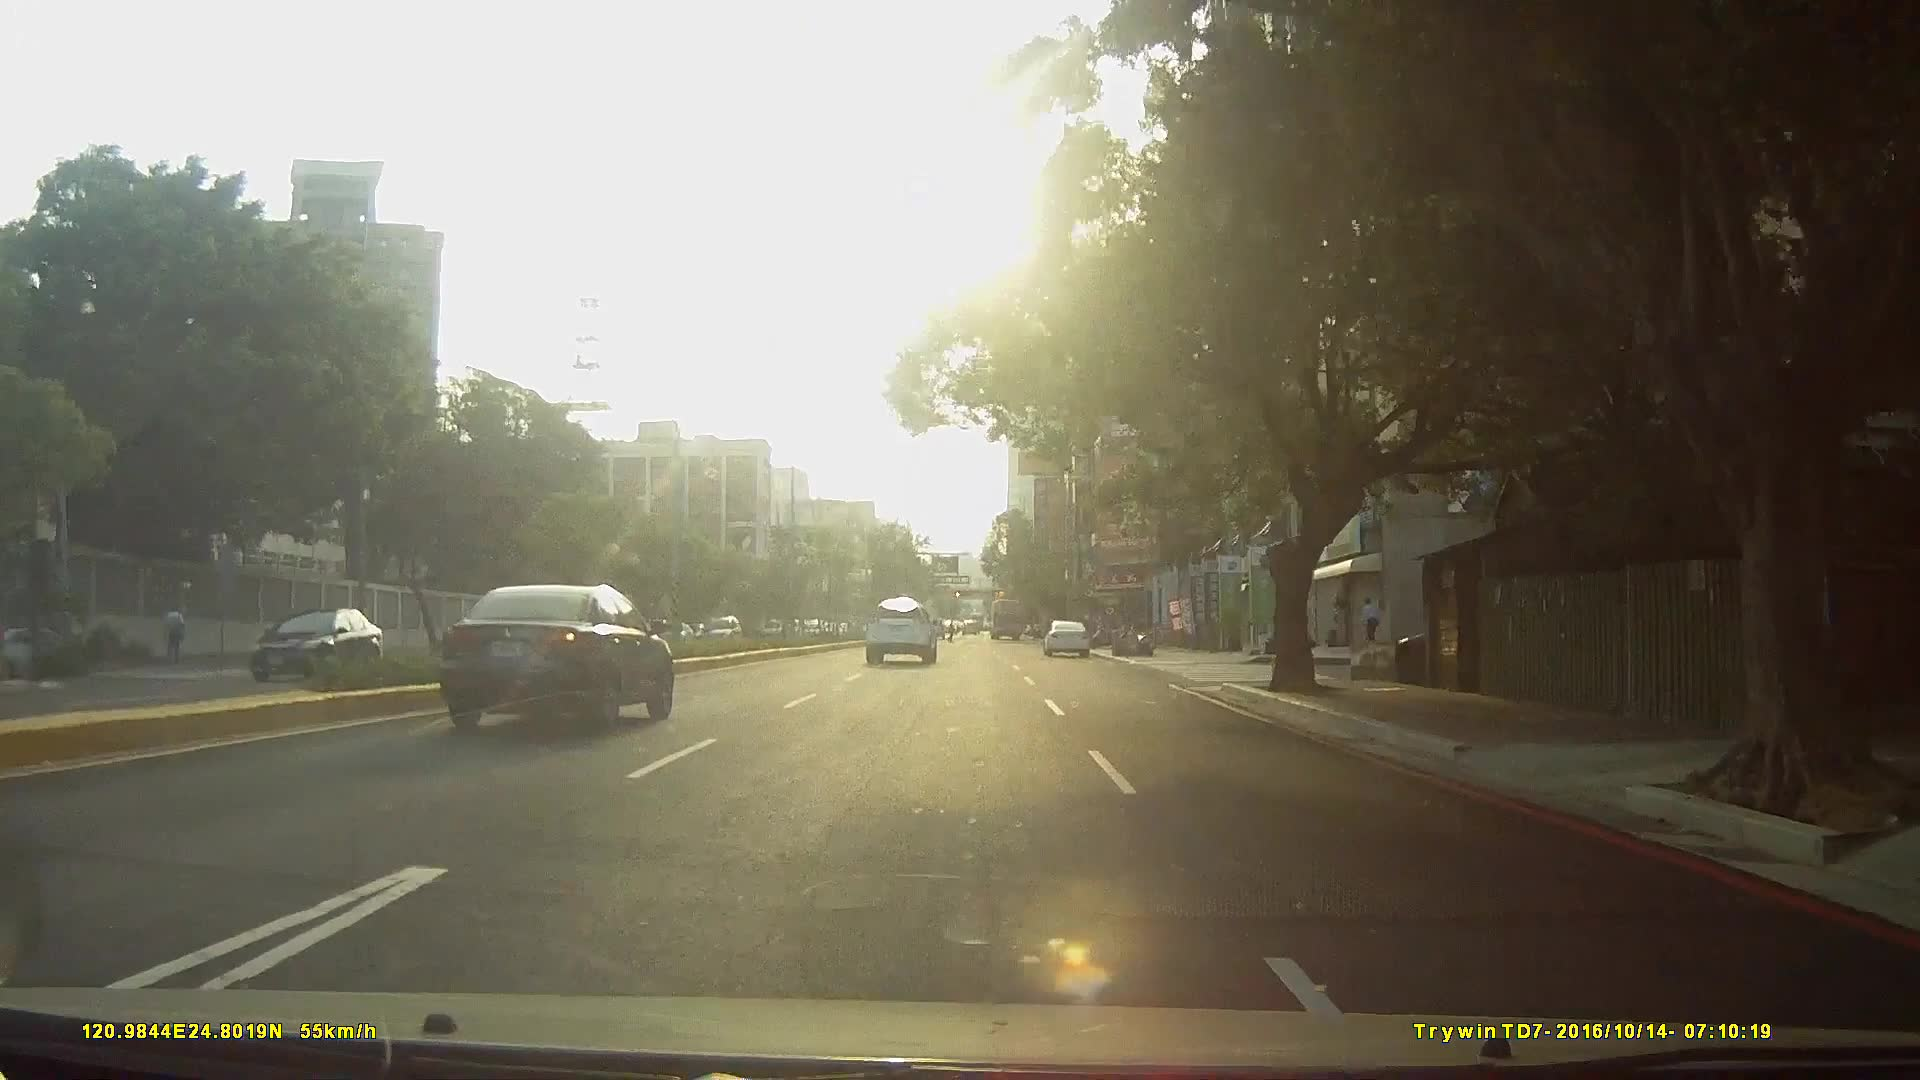pedestrian: (161, 606, 188, 665), (1362, 598, 1382, 647)
vehicle: (439, 579, 676, 735), (238, 608, 393, 690), (862, 596, 939, 666), (1041, 617, 1091, 658), (986, 595, 1026, 640)
